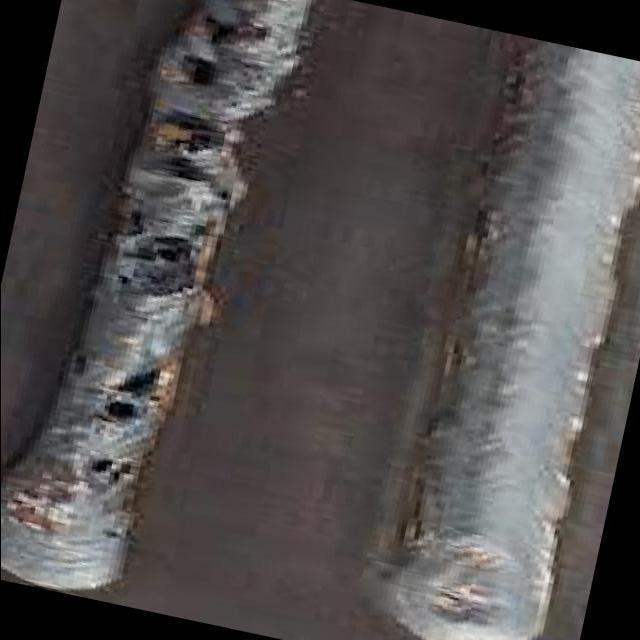defect: (92, 361, 166, 430), (162, 115, 230, 183), (102, 231, 198, 266), (198, 13, 279, 51), (177, 52, 230, 88), (108, 268, 176, 292), (83, 456, 138, 485), (215, 186, 240, 206), (101, 528, 130, 543)
